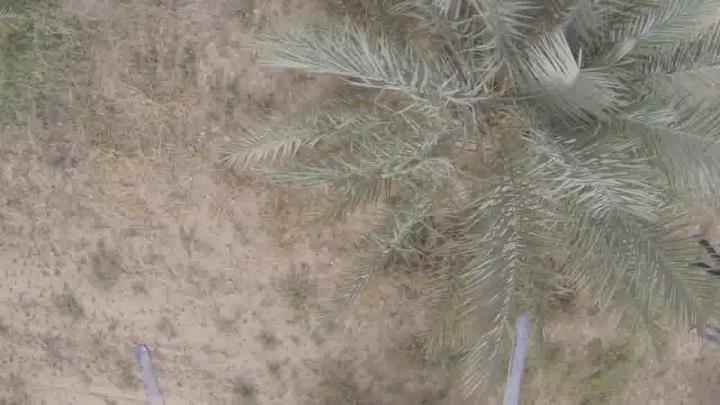Date-Palm-Crown: (354, 1, 676, 264)
